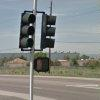Traffic light: (13, 4, 62, 64)
